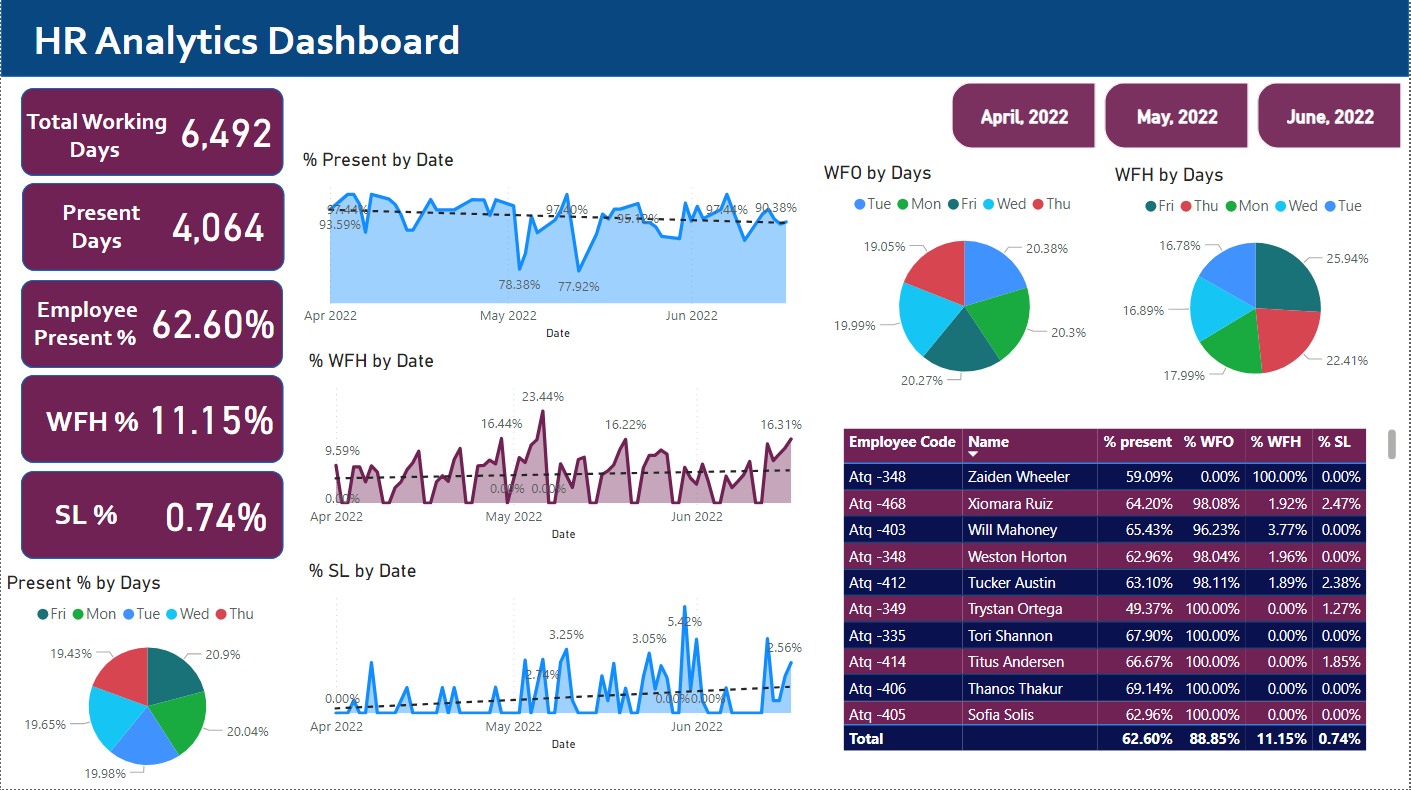

This screenshot's page, from the dashboard's own definition file:
{"tool":"powerbi","page":{"name":"Page 1","canvas":[1280,720],"ordinal":0},"visuals":[{"type":"shape","box":[0,0,1280,72.6],"z":0},{"type":"shape","title":"KPI card 1","box":[18,83,238.6,79.9],"z":0,"group":"g1"},{"type":"shape","title":"KPI card 1","box":[19.1,169.1,238.6,79.9],"z":0,"group":"g5"},{"type":"shape","title":"KPI card 1","box":[18,257,238.2,80],"z":0,"group":"g2"},{"type":"shape","title":"KPI card 1","box":[18,344,238.6,79.9],"z":0,"group":"g3"},{"type":"shape","title":"KPI card 1","box":[18,431,238.6,79.9],"z":0,"group":"g4"},{"type":"advancedSlicerVisual","title":"Slicer","fields":{"Values":["Calendar.Month"]},"box":[859.2,72.9,420.8,70.5],"z":1000},{"type":"card","fields":{"Values":["Calendar.total Working days"]},"box":[145.4,90.3,118.2,60.9],"z":1000,"group":"g1"},{"type":"card","fields":{"Values":["Measure table.Present Days"]},"box":[136.3,178.1,121.8,54.5],"z":1000,"group":"g5"},{"type":"card","fields":{"Values":["Measure table.% present"]},"box":[125.3,262.5,134.5,61.8],"z":1000,"group":"g2"},{"type":"card","fields":{"Values":["Measure table.% WFH"]},"box":[123.5,355.8,134.5,51.8],"z":1000,"group":"g3"},{"type":"card","fields":{"Values":["Measure table.% SL"]},"box":[121.6,439.2,147.3,60],"z":1000,"group":"g4"},{"type":"textbox","box":[24.7,10.6,579.5,62.3],"z":2000},{"type":"textbox","box":[9,94.8,156.3,84.6],"z":2000,"group":"g1"},{"type":"textbox","box":[22.5,177.3,132.7,61.8],"z":2000,"group":"g5"},{"type":"textbox","box":[20,265,117.3,84.5],"z":2000,"group":"g2"},{"type":"textbox","box":[24.4,364.9,112.7,43.6],"z":2000,"group":"g3"},{"type":"textbox","box":[26.2,449.2,101.8,50.9],"z":2000,"group":"g4"},{"type":"group","id":"g1","title":"KPI Card 1","box":[9,83,254.5,96.4],"z":3000},{"type":"group","id":"g2","title":"KPI Card 3","box":[18,257,241.8,92.5],"z":4000},{"type":"group","id":"g3","title":"KPI Card 4","box":[18,344,240,79.9],"z":5000},{"type":"group","id":"g4","title":"KPI Card 5","box":[18,431,250.9,79.9],"z":6000},{"type":"group","id":"g5","title":"KPI Card 2","box":[19.1,169.1,239,79.9],"z":7000},{"type":"pieChart","title":"WFH by Days","fields":{"Category":["Calendar.Day of week"],"Y":["Measure table.WFH"]},"box":[1007.3,150.9,266.4,216.4],"z":8000},{"type":"pieChart","title":"WFO by Days","fields":{"Category":["Calendar.Day of week"],"Y":["Measure table.WFO"]},"box":[742.7,149.1,266.4,216.4],"z":9000},{"type":"areaChart","title":"% Present by Date","fields":{"Category":["Calendar.Date"],"Y":["Measure table.% present"]},"box":[269.1,137.3,473.6,179.1],"z":10000},{"type":"areaChart","fields":{"Category":["Calendar.Date"],"Y":["Measure table.% WFH"]},"box":[274.5,320,472.7,179.1],"z":11000},{"type":"areaChart","fields":{"Category":["Calendar.Date"],"Y":["Measure table.% SL"]},"box":[274.5,510.9,472.7,179.1],"z":12000},{"type":"tableEx","fields":{"Values":["Combined Attendance Sheet 2022-2023 xlsx.Employee Code","Combined Attendance Sheet 2022-2023 xlsx.Name","Measure table.% present","Measure table.% WFO","Measure table.% WFH","Measure table.% SL"]},"box":[760,387.3,513.6,302.7],"z":13000},{"type":"pieChart","title":"Present % by Days","fields":{"Category":["Calendar.Day of week"],"Y":["Measure table.Present Days"]},"box":[0,521.8,266.4,198.2],"z":14000}]}

Visuals, with their boxes in screenshot pixels (x1, y1, x2, y2), scaled from the page's 1280x720 canvas onto the 1411x790 screenshot:
shape: 0:0:1410:80
"KPI card 1" shape: 20:91:283:179
"KPI card 1" shape: 21:186:284:273
"KPI card 1" shape: 20:282:282:370
"KPI card 1" shape: 20:377:283:465
"KPI card 1" shape: 20:473:283:561
"Slicer" advancedSlicerVisual: 947:80:1410:157
card - Calendar.total Working days: 160:99:291:166
card - Measure table.Present Days: 150:195:285:255
card - Measure table.% present: 138:288:286:356
card - Measure table.% WFH: 136:390:284:447
card - Measure table.% SL: 134:482:296:548
textbox: 27:12:666:80
textbox: 10:104:182:197
textbox: 25:195:171:262
textbox: 22:291:151:383
textbox: 27:400:151:448
textbox: 29:493:141:549
"KPI Card 1" group: 10:91:290:197
"KPI Card 3" group: 20:282:286:383
"KPI Card 4" group: 20:377:284:465
"KPI Card 5" group: 20:473:296:561
"KPI Card 2" group: 21:186:285:273
"WFH by Days" pieChart: 1110:166:1404:403
"WFO by Days" pieChart: 819:164:1112:401
"% Present by Date" areaChart: 297:151:819:347
areaChart - Calendar.Date x Measure table.% WFH: 303:351:824:548
areaChart - Calendar.Date x Measure table.% SL: 303:561:824:757
tableEx - Combined Attendance Sheet 2022-2023 xlsx.Employee Code x Combined Attendance Sheet 2022-2023 xlsx.Name: 838:425:1404:757
"Present % by Days" pieChart: 0:573:294:789
